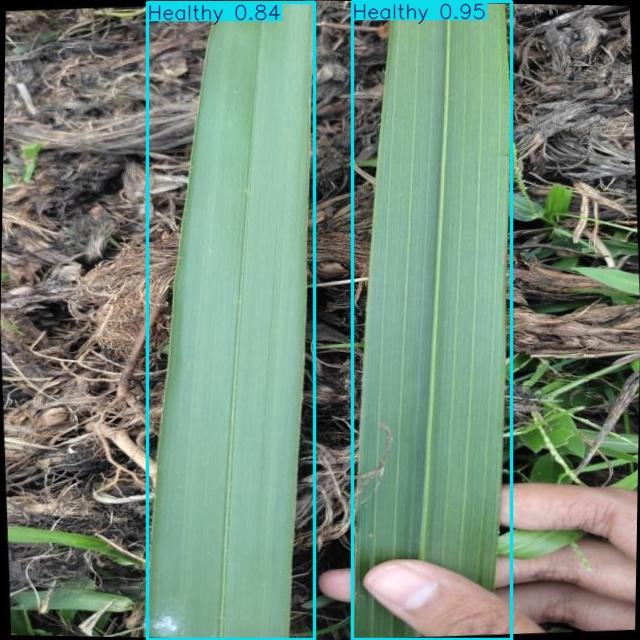Healthy: (147, 2, 315, 640), (353, 2, 511, 639)
